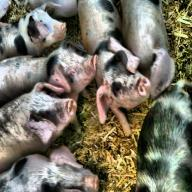boar: (0, 0, 175, 192), (135, 80, 192, 192)
